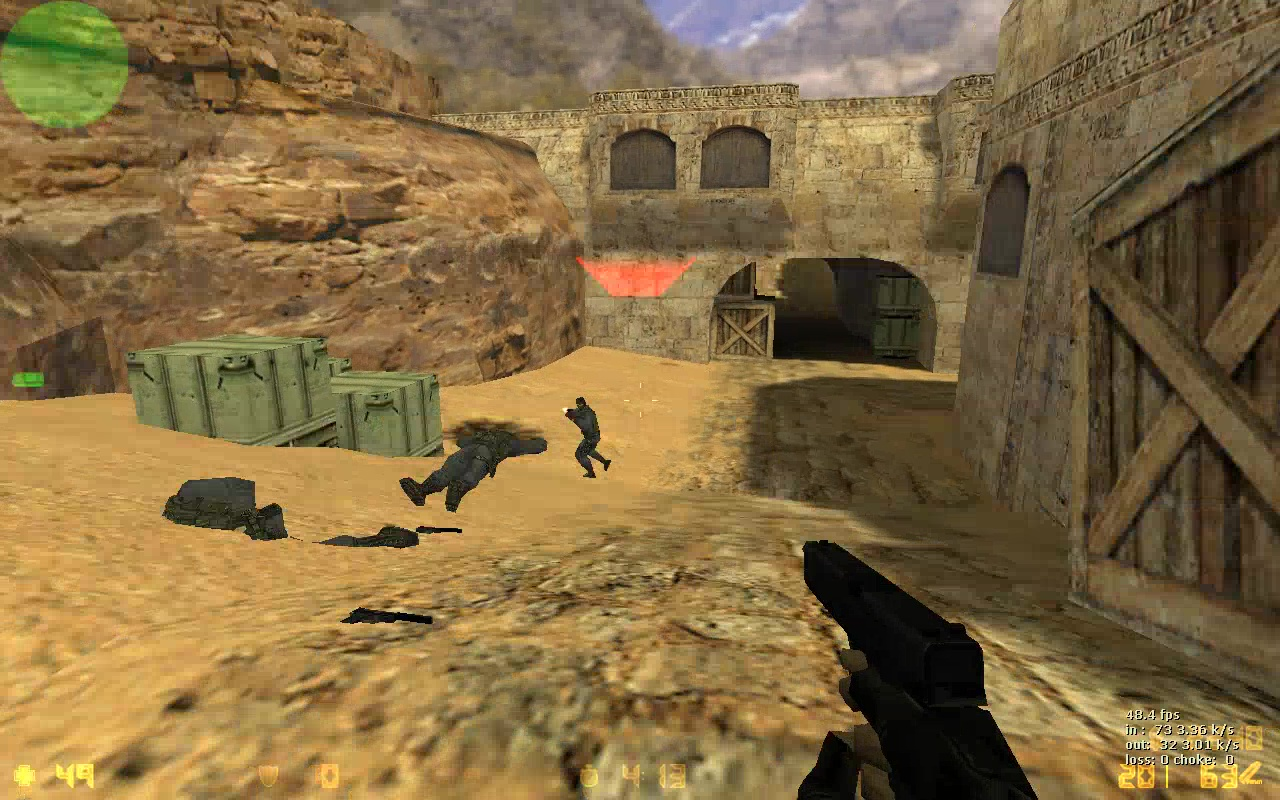ct: (564, 397, 613, 480)
dead: (399, 429, 548, 514)
